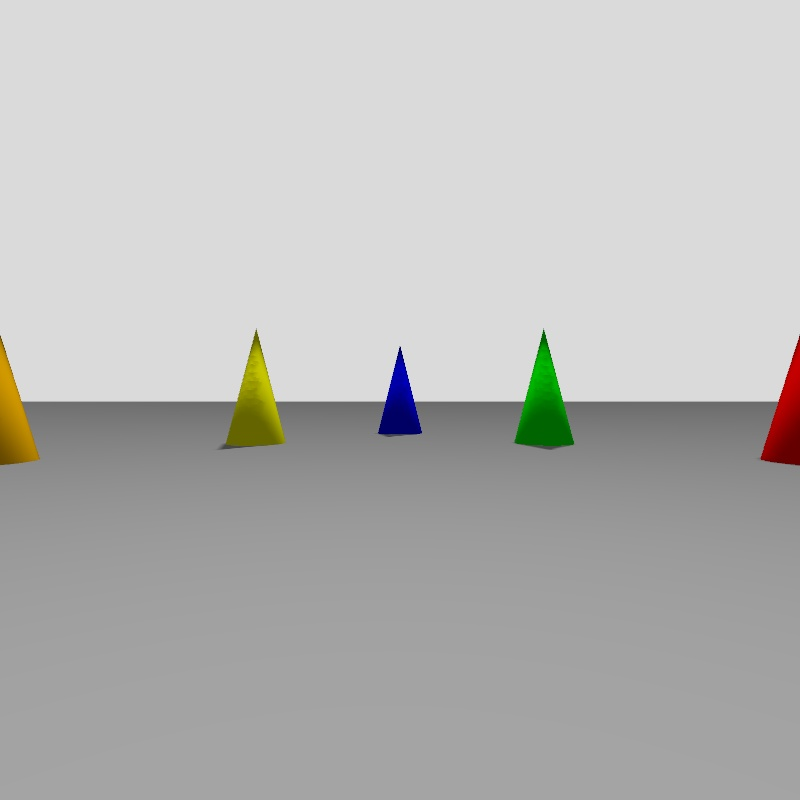Blue_cone: (379, 348, 421, 433)
Green_cone: (515, 331, 573, 446)
Orange_cone: (0, 337, 37, 464)
Red_cone: (761, 338, 799, 464)
Yellow_cone: (226, 331, 284, 446)
